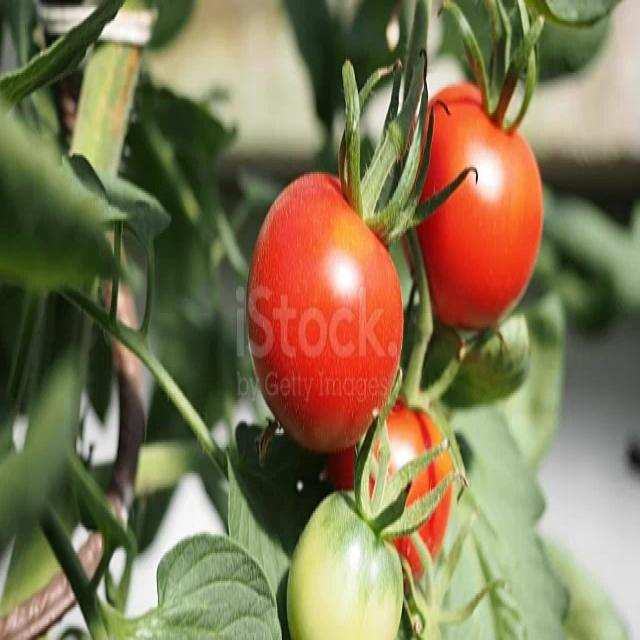tomato: (248, 174, 402, 452), (418, 85, 542, 329), (338, 405, 453, 578)
